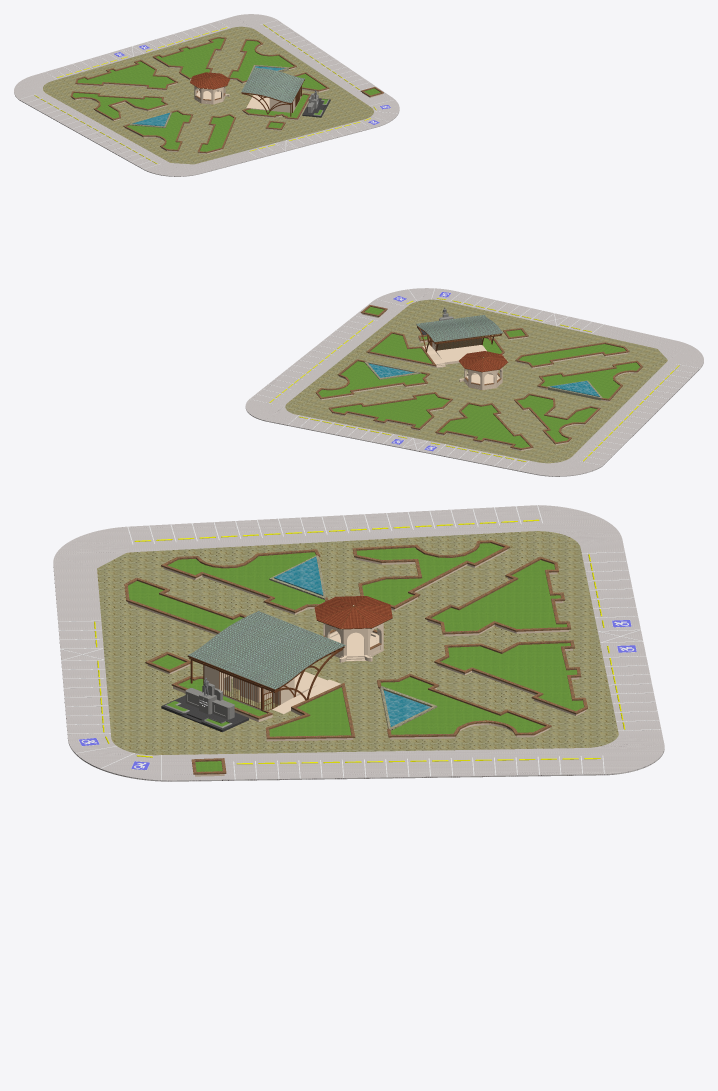
Rendered from puntos_de_interes.glb.
3 views of the same model, one above another, from view 1: azimuth 30°, elevation 25°; view 2: azimuth 150°, elevation 25°; view 3: azimuth 270°, elevation 25° (orthographic). The views are drawn at different scales.
Parts seen in each view (by area): view 1: Mesh 15, Mesh 18, Mesh 13, Mesh 14, Mesh 6, Mesh 5, Mesh 9, Mesh 2, Mesh 19, Mesh 20, Mesh 1; view 2: Mesh 15, Mesh 18, Mesh 13, Mesh 14, Mesh 6, Mesh 9, Mesh 5, Mesh 19, Mesh 2, Mesh 1, Mesh 16, Mesh 20; view 3: Mesh 15, Mesh 18, Mesh 13, Mesh 14, Mesh 6, Mesh 5, Mesh 9, Mesh 20, Mesh 19, Mesh 1, Mesh 2, Mesh 11 (+2 smaller).
Boxes of the visible parts, <box> form: Mesh 15: <box>43,26,373,164</box>; Mesh 18: <box>14,14,399,176</box>; Mesh 13: <box>72,38,380,151</box>; Mesh 14: <box>70,37,383,153</box>; Mesh 6: <box>72,41,382,153</box>; Mesh 5: <box>241,67,304,102</box>; Mesh 9: <box>19,20,397,169</box>; Mesh 2: <box>34,24,376,163</box>; Mesh 19: <box>190,72,229,89</box>; Mesh 20: <box>190,73,304,116</box>; Mesh 1: <box>132,66,284,126</box>; Mesh 15: <box>285,299,667,463</box>; Mesh 18: <box>245,288,703,476</box>; Mesh 13: <box>318,307,639,447</box>; Mesh 14: <box>315,305,642,449</box>; Mesh 6: <box>318,311,641,450</box>; Mesh 9: <box>249,288,699,470</box>; Mesh 5: <box>416,315,502,342</box>; Mesh 19: <box>459,351,507,371</box>; Mesh 2: <box>269,298,679,461</box>; Mesh 1: <box>368,363,599,396</box>; Mesh 16: <box>364,361,602,400</box>; Mesh 20: <box>416,324,507,372</box>; Mesh 15: <box>97,531,618,755</box>; Mesh 18: <box>53,505,664,781</box>; Mesh 13: <box>128,543,583,771</box>; Mesh 14: <box>124,540,587,774</box>; Mesh 6: <box>127,549,586,776</box>; Mesh 5: <box>188,611,345,689</box>; Mesh 9: <box>58,505,661,780</box>; Mesh 20: <box>187,596,392,710</box>; Mesh 19: <box>314,596,392,628</box>; Mesh 1: <box>274,557,430,726</box>; Mesh 2: <box>94,519,625,764</box>; Mesh 11: <box>164,683,234,728</box>.
Bounding box in the file's own units: 156 × 5.58 × 70.48.
20 materials, 13 textured.
